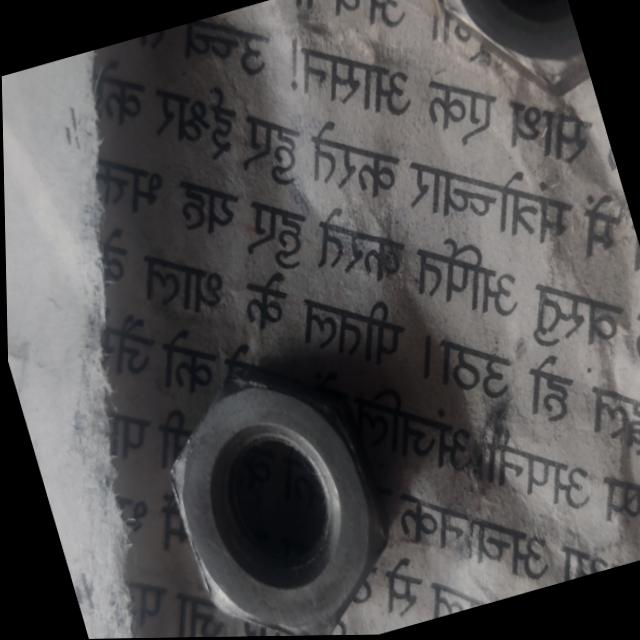disinfected nut: (168, 364, 384, 637), (445, 0, 589, 96)
